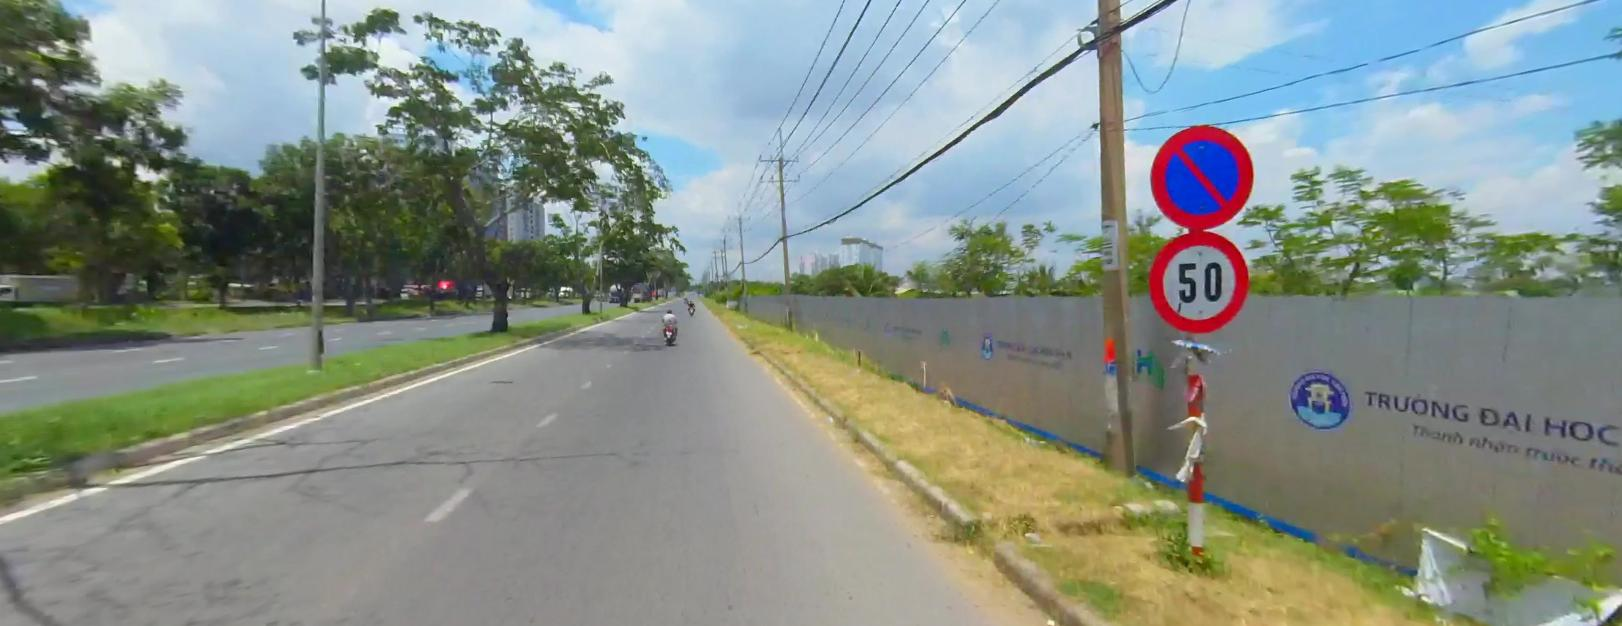Cam dung va do: (1147, 120, 1256, 228)
Gioi han toc do: (1145, 229, 1251, 338)
